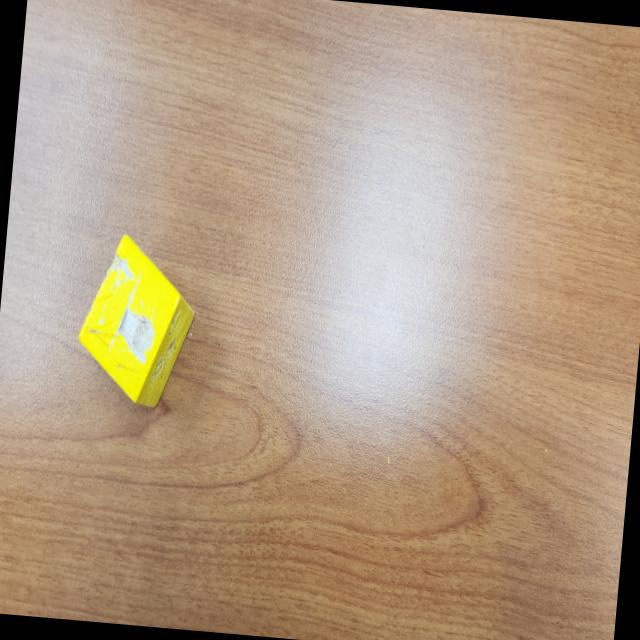broken: (72, 230, 200, 412)
